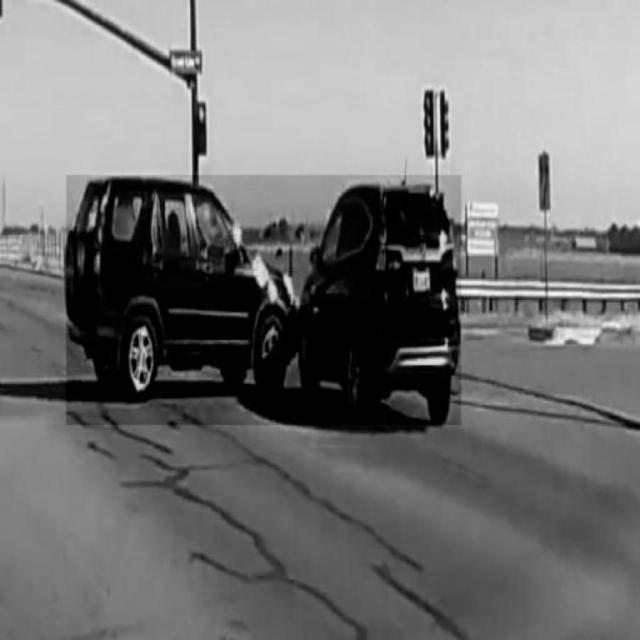accident: (67, 175, 461, 425)
